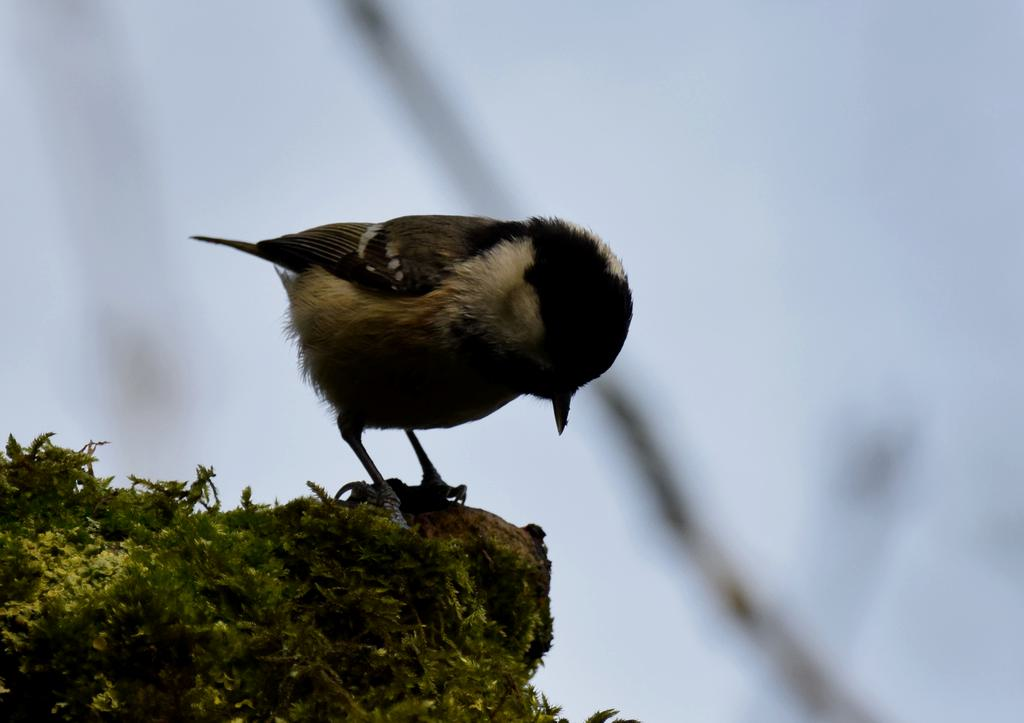PeriparusAter: (185, 214, 635, 529)
